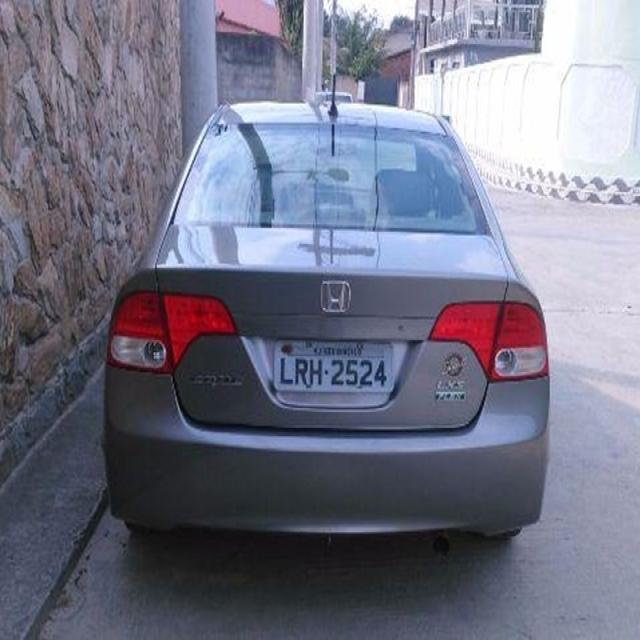Placa: (269, 337, 395, 397)
